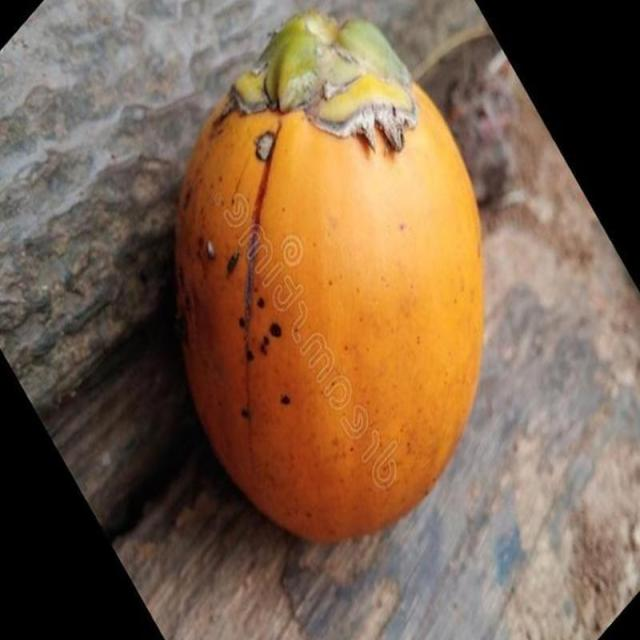good: (173, 12, 486, 546)
